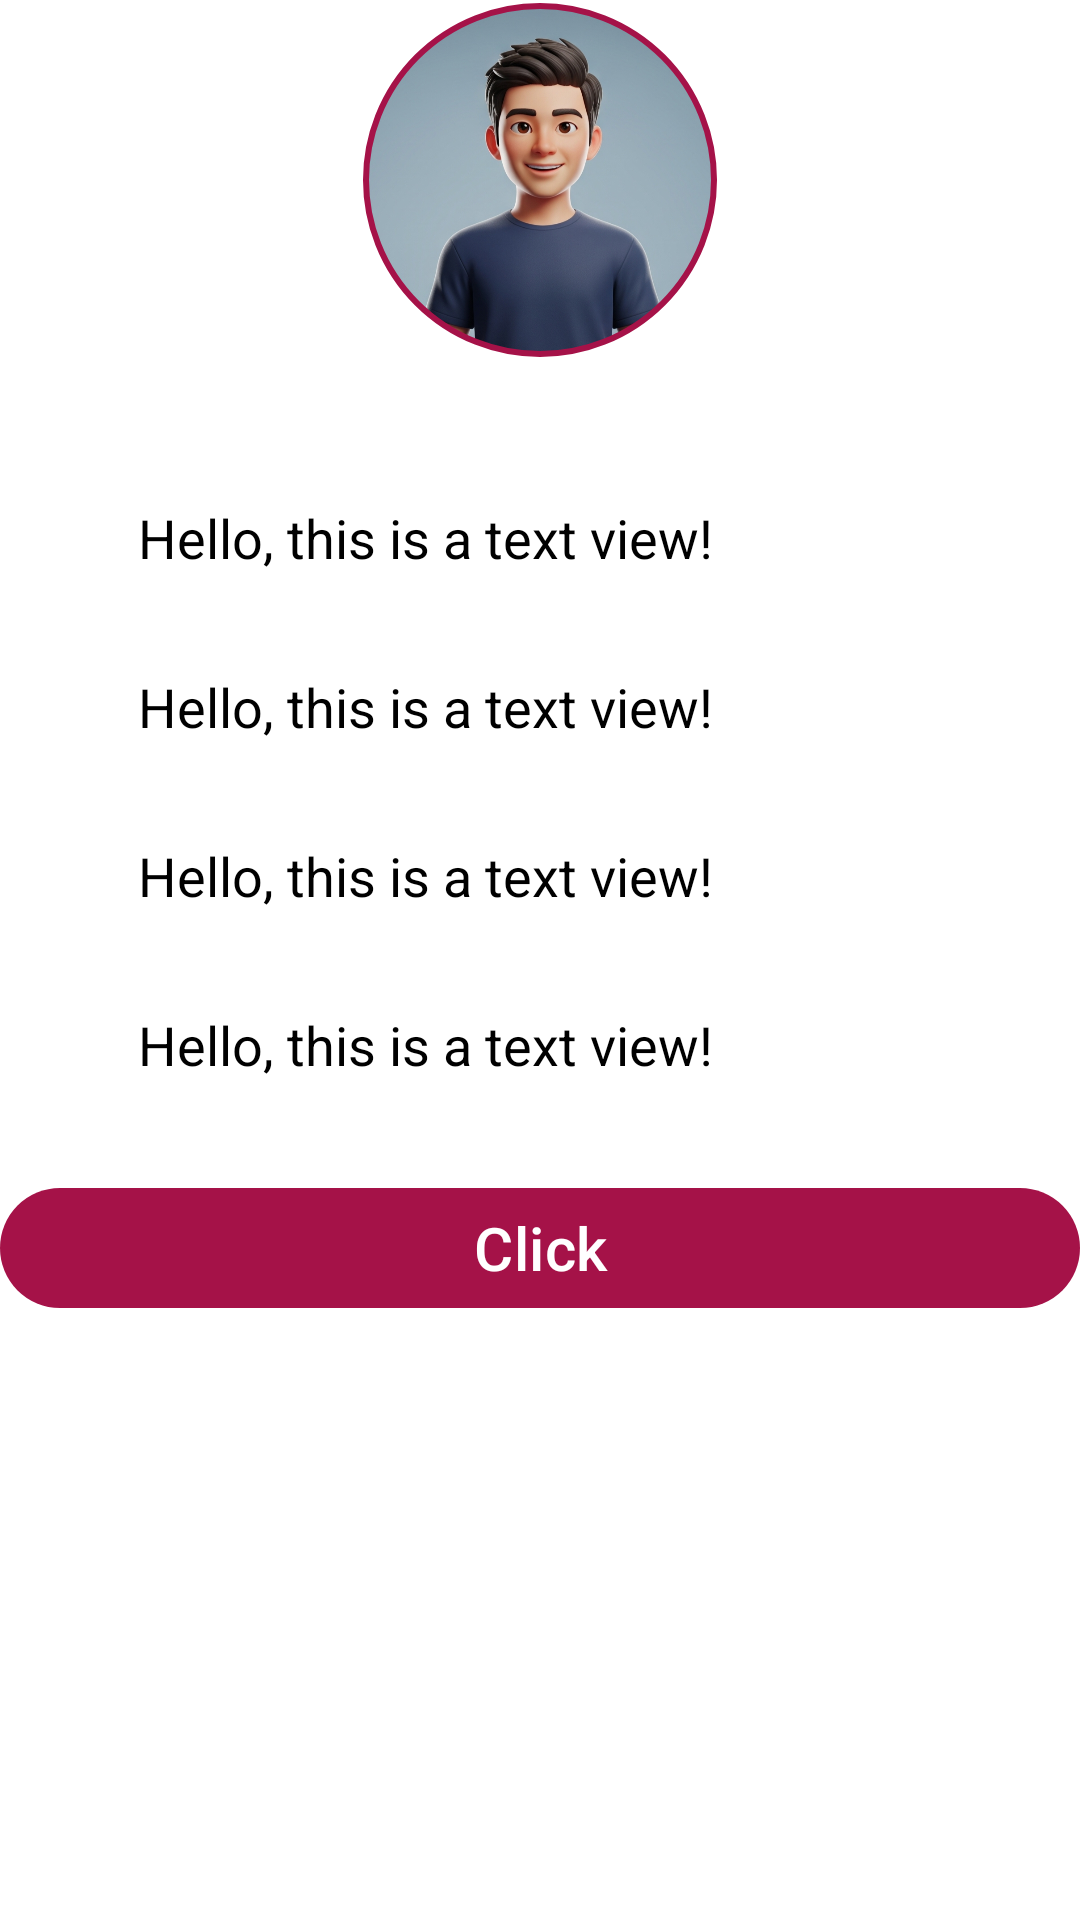

Where to tap for icons on this 1080 x 1920 app screen, as (x=x, y=y):
profile: (x=540, y=180)
